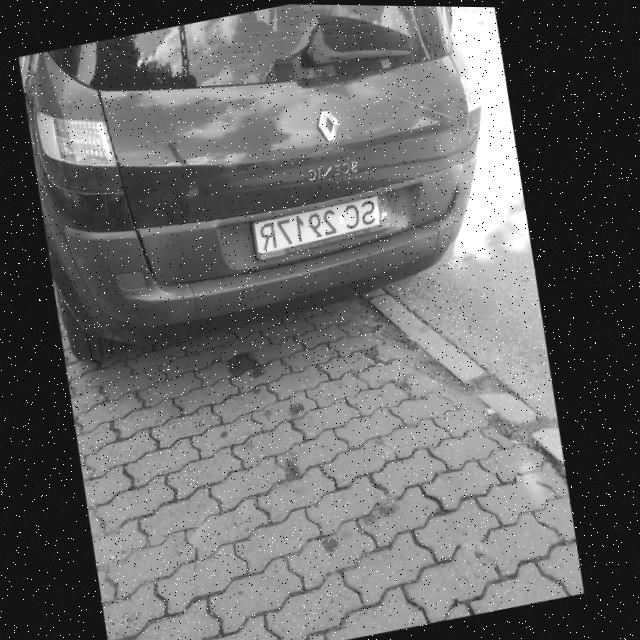license-plates: (253, 195, 391, 258)
